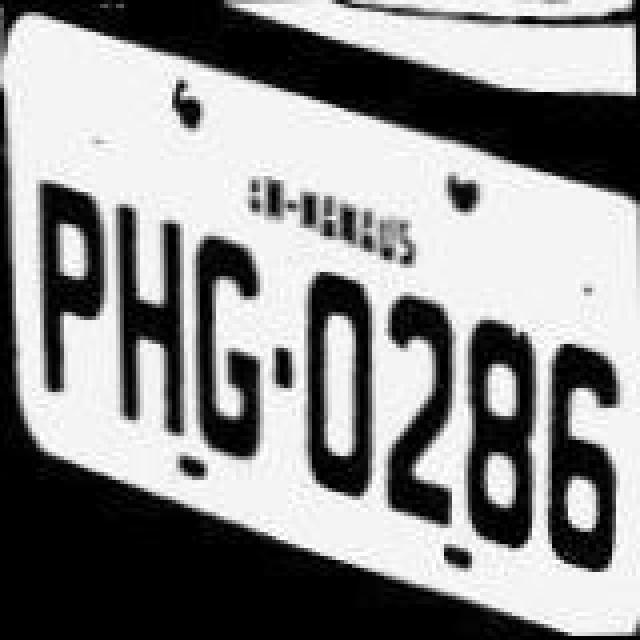2: (382, 290, 458, 538)
6: (544, 340, 632, 572)
8: (460, 308, 540, 556)
G: (188, 234, 264, 474)
H: (104, 202, 188, 438)
O: (300, 270, 380, 506)
P: (24, 180, 108, 404)
